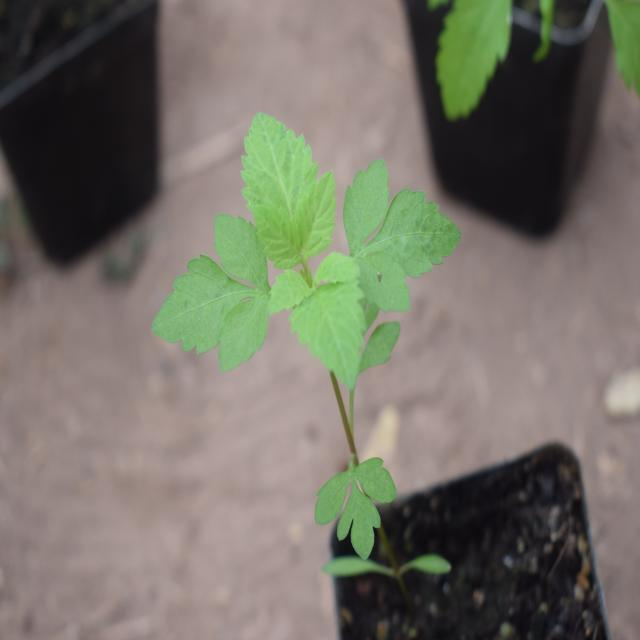Bidens pilosa: (152, 102, 460, 554)
